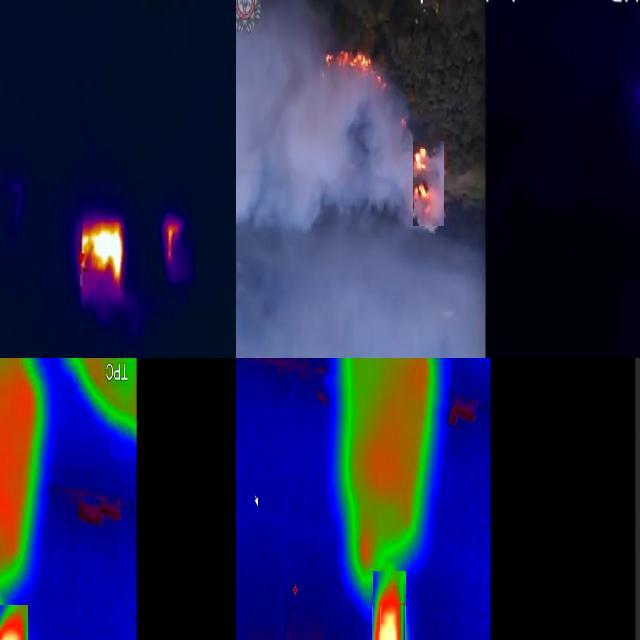fire: (80, 219, 125, 289), (374, 572, 407, 640), (166, 218, 182, 267)
